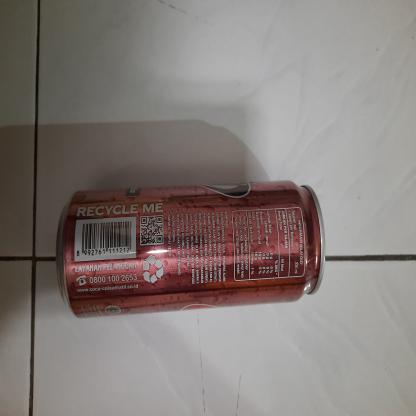mouse: (52, 180, 336, 314)
